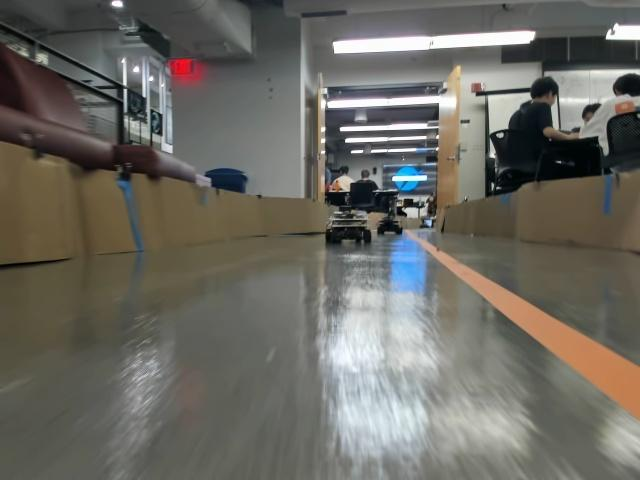Car: (327, 205, 371, 244)
